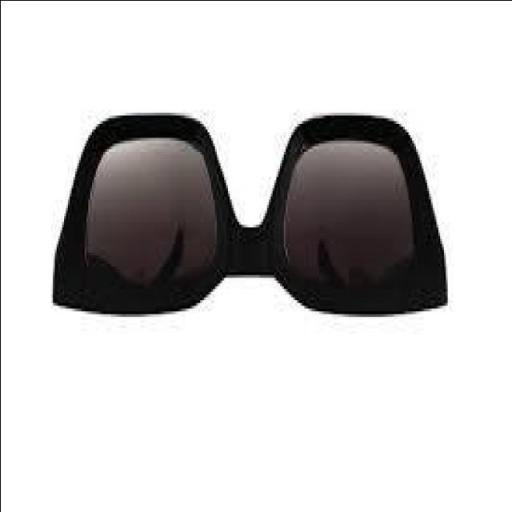glasses: (38, 80, 464, 379)
